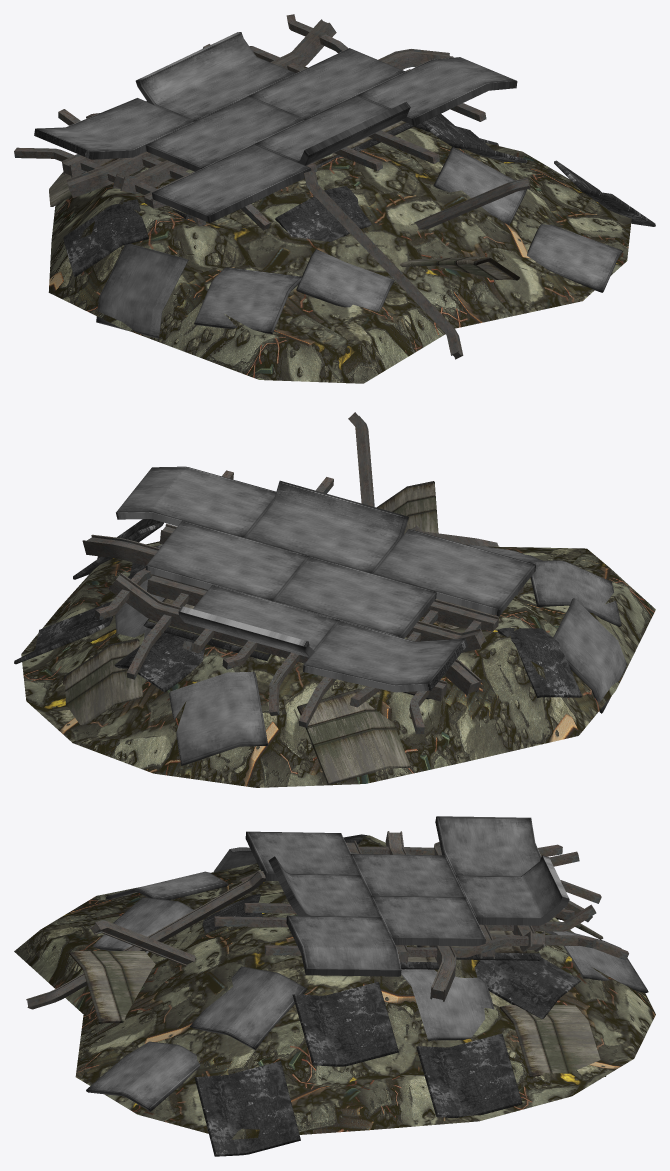
Rendered from WreckagePile.fbx.
The picture shows the model from 3 angles, top to bottom: view 1: azimuth 30°, elevation 25°; view 2: azimuth 150°, elevation 25°; view 3: azimuth 270°, elevation 25°; orthographic projection. The views are drawn at different scales.
Parts seen in each view (by area): view 1: pSphere1, polySurface21, pasted__pasted__pCube1 (×3), pasted__pasted__pasted__pCube1 (×3), pCube1, pasted__pCube1 (×2), pasted__pasted__pasted__pasted__pCube1, pasted__pCube6, pasted__pasted__pCube6; view 2: polySurface21, pSphere1, pasted__pasted__pCube1 (×5), pasted__pasted__pasted__pCube1, pasted__pCube1 (×3), pCube1, pasted__pasted__pasted__pasted__pCube1, pasted__pasted__pCube6; view 3: pSphere1, polySurface21, pasted__pasted__pCube1 (×6), pasted__pasted__pasted__pCube1 (×3), pasted__pCube1 (×2), pasted__pasted__pasted__pasted__pCube1 (×2), pasted__pCube6, pasted__pasted__pCube6, pCube1.
Boxes of the visible parts, x1,y1,x2,y2 form: pSphere1: (48,126,631,383); polySurface21: (14,14,517,230); pasted__pasted__pCube1 (×3): (194,186,519,333); pasted__pasted__pasted__pCube1 (×3): (296,119,527,311); pCube1: (96,243,188,338); pasted__pCube1 (×2): (63,160,655,276); pasted__pasted__pasted__pasted__pCube1: (527,224,622,292); pasted__pCube6: (304,170,463,359); pasted__pasted__pCube6: (414,177,530,229); polySurface21: (82,466,535,733); pSphere1: (21,541,655,787); pasted__pasted__pCube1 (×5): (14,481,621,765); pasted__pasted__pasted__pCube1: (297,689,410,785); pasted__pCube1 (×3): (73,519,582,697); pCube1: (553,598,626,713); pasted__pasted__pasted__pasted__pCube1: (63,638,142,724); pasted__pasted__pCube6: (348,412,374,506); pSphere1: (14,835,655,1139); polySurface21: (214,816,628,1001); pasted__pasted__pCube1 (×6): (69,871,648,1117); pasted__pasted__pasted__pCube1 (×3): (92,897,398,1066); pasted__pCube1 (×2): (194,969,494,1156); pasted__pasted__pasted__pasted__pCube1 (×2): (86,1005,605,1111); pasted__pCube6: (26,870,265,1009); pasted__pasted__pCube6: (89,920,195,965); pCube1: (213,847,256,871).
Size of the model in its own units: 21.94 by 5.97 by 22.17.
Materials: 36 (36 with a texture image).
